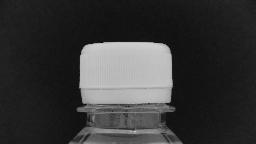Good Cap: (68, 37, 180, 119)
